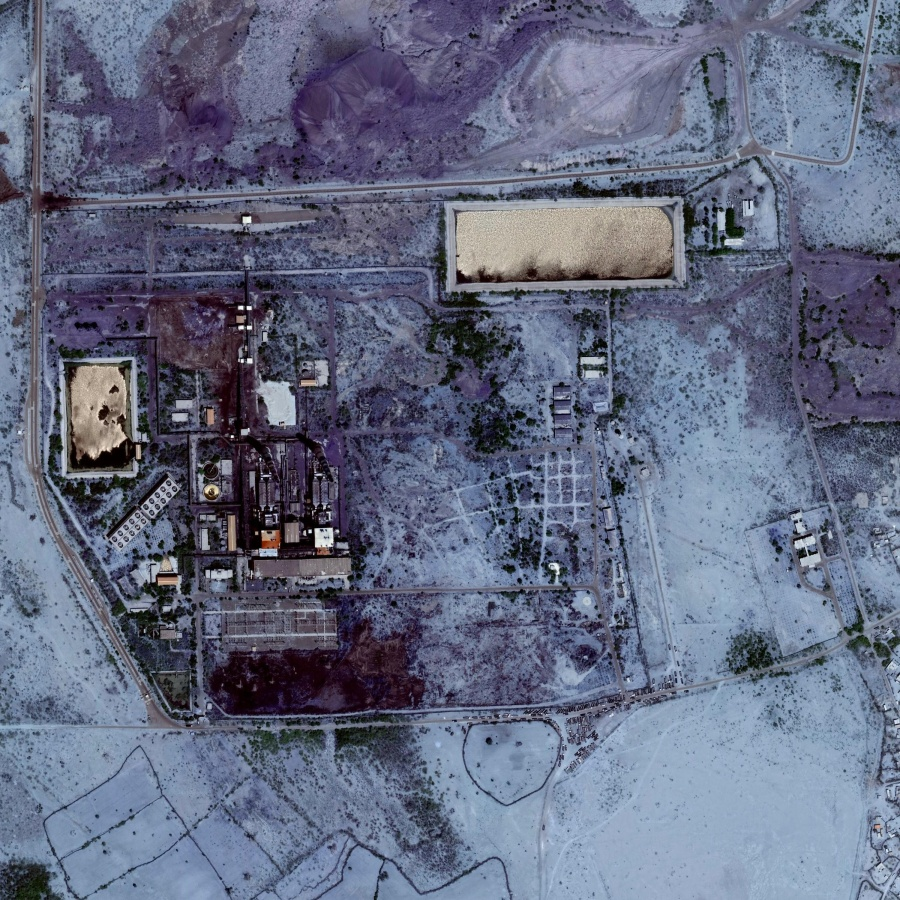PowerPlant: (46, 274, 417, 712)
